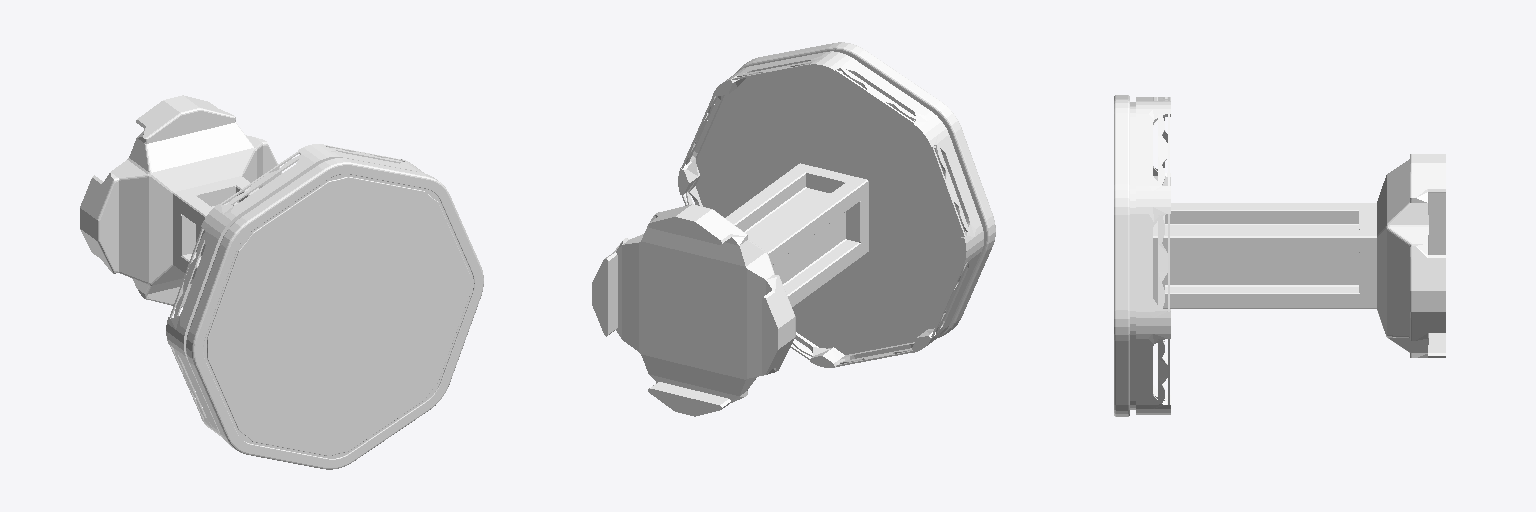
The model's file is Mesh_GameDesk.obj.
3 views of the same model, side by side, from view 1: azimuth 30°, elevation 25°; view 2: azimuth 150°, elevation 25°; view 3: azimuth 270°, elevation 25° (orthographic).
Visible parts, largest first — view 1: Mesh_GameDesk; view 2: Mesh_GameDesk; view 3: Mesh_GameDesk.
Part boxes in pixels (x1,y1,x2,y2): Mesh_GameDesk: (80, 95, 483, 469); Mesh_GameDesk: (592, 42, 995, 416); Mesh_GameDesk: (1114, 95, 1445, 416).
Bounding box in the file's own units: 147 × 147 × 145.